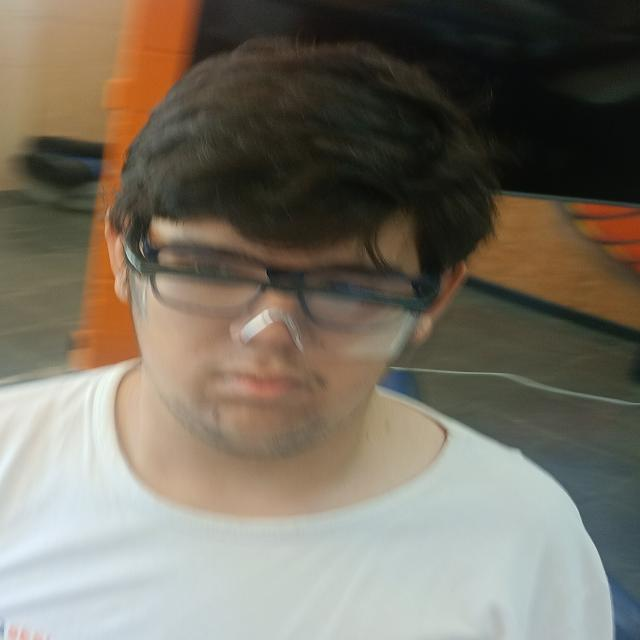oculos-epi: (117, 241, 449, 367)
